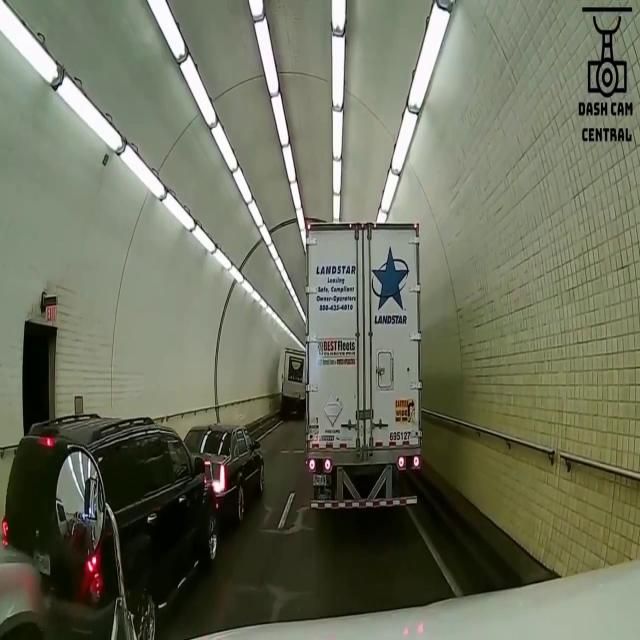accident: (16, 407, 266, 599)
